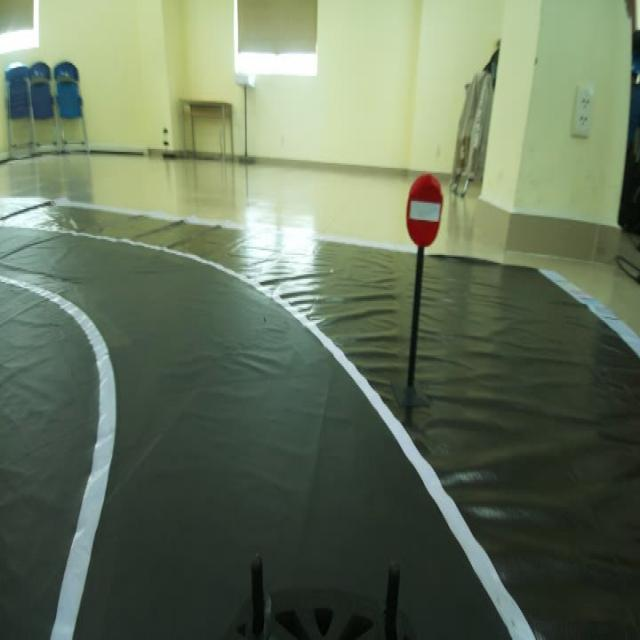no_entry: (400, 167, 453, 269)
